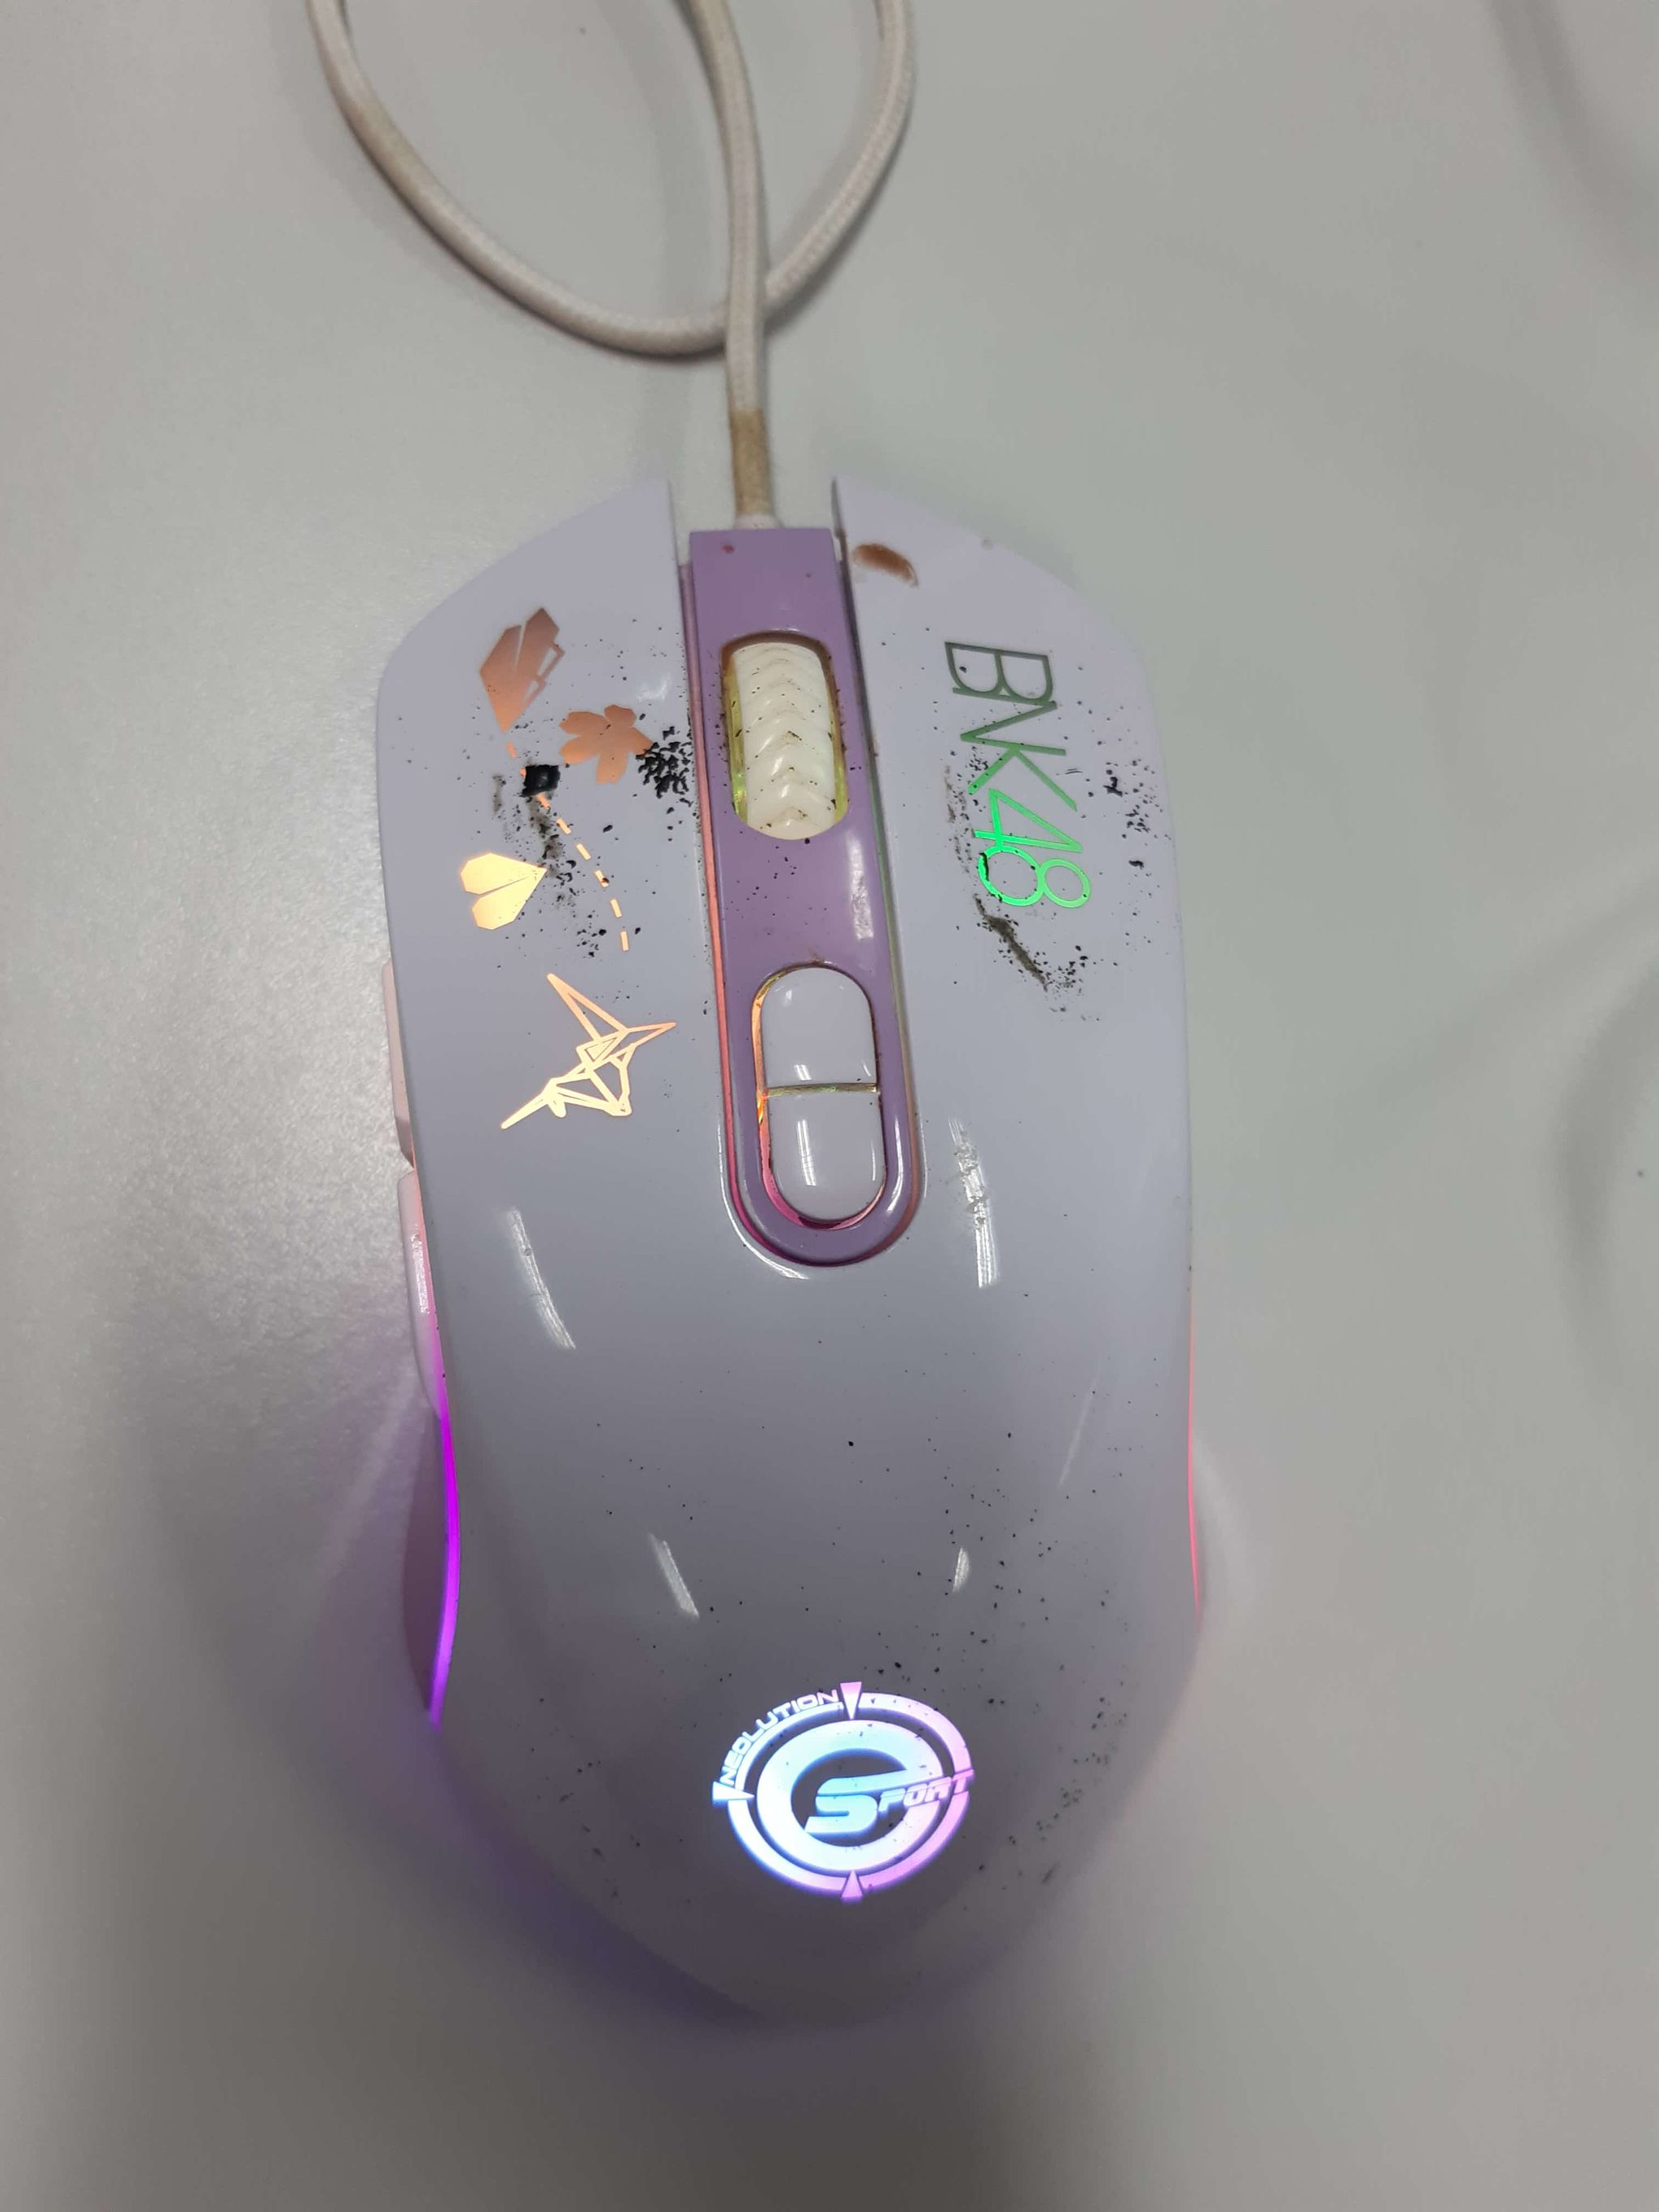mouse: (315, 491, 1279, 2045)
